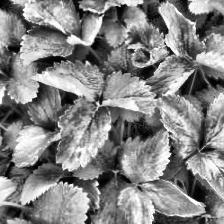Powdery Mildew Leaf: (54, 95, 112, 172), (30, 58, 104, 106), (156, 0, 206, 66), (139, 179, 206, 217), (99, 71, 158, 114), (66, 10, 105, 47), (195, 31, 224, 79)
